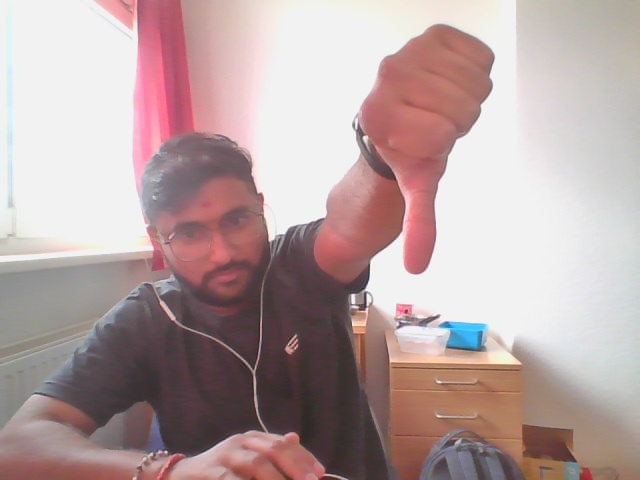ThumbsDown: (355, 25, 494, 273)
